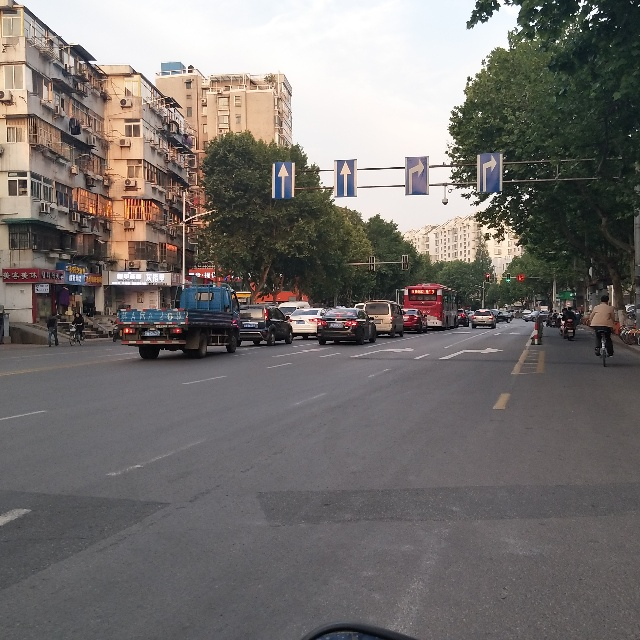right: (476, 154, 503, 192), (405, 156, 429, 196)
straight: (334, 159, 357, 197), (272, 162, 294, 199)
